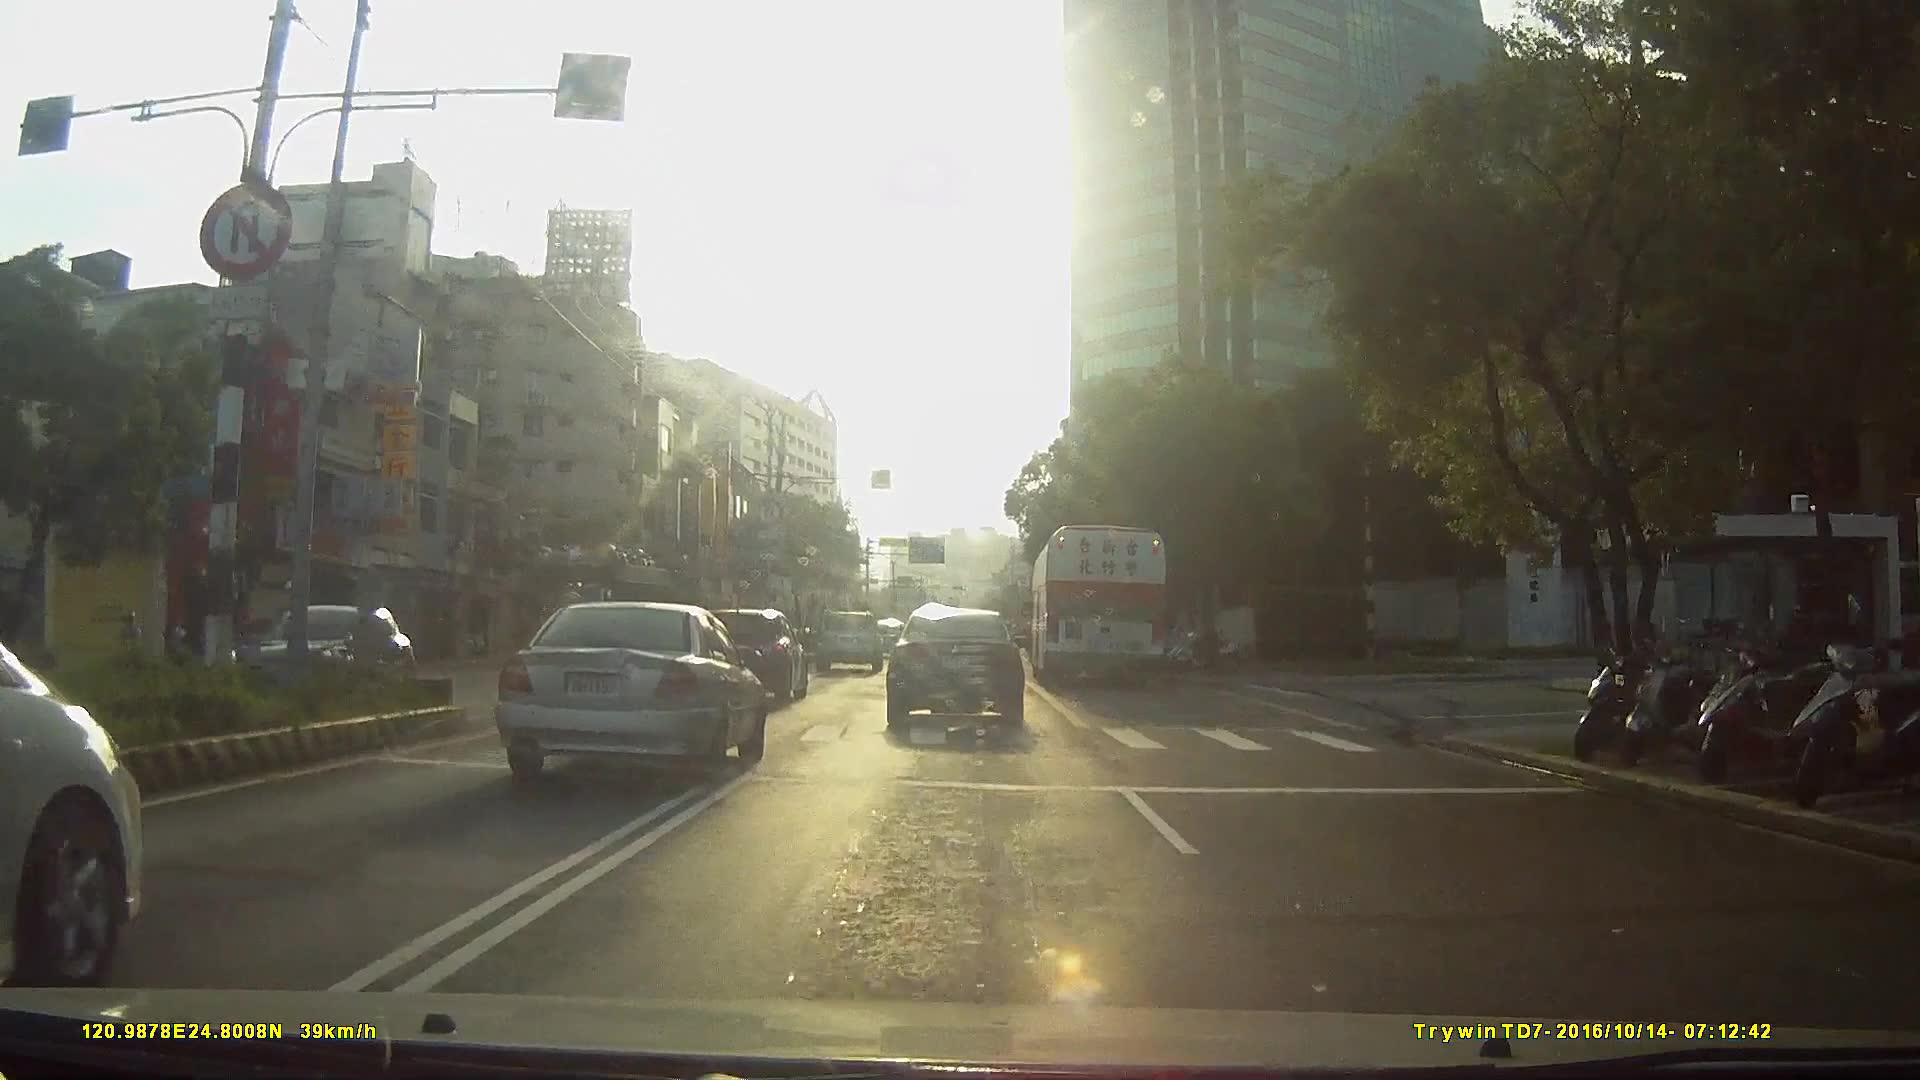vehicle: (485, 597, 765, 787), (1027, 520, 1168, 690), (215, 597, 425, 703), (884, 601, 1025, 731), (690, 607, 807, 705), (815, 607, 884, 674)
